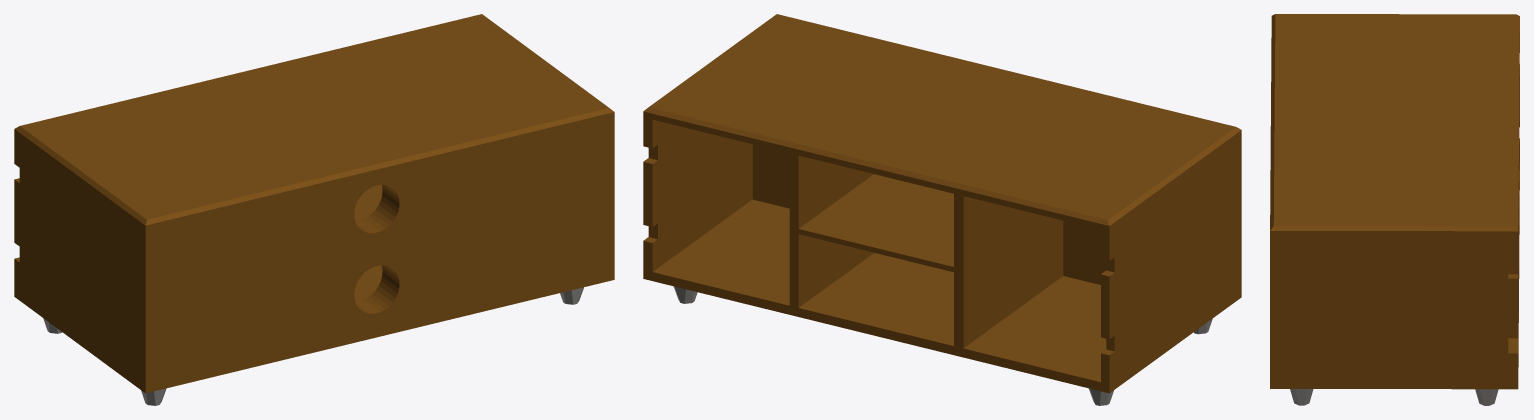
File: TV_Stand.fbx
3 renders of one model, left to right at view 1: azimuth 30°, elevation 25°; view 2: azimuth 150°, elevation 25°; view 3: azimuth 270°, elevation 25°, orthographic. The views are drawn at different scales.
Parts seen in each view (by area): view 1: Cube.053; view 2: Cube.053; view 3: Cube.053.
Part boxes in pixels (<box>): Cube.053: <box>14,14,614,405</box>; Cube.053: <box>643,14,1241,405</box>; Cube.053: <box>1270,14,1519,405</box>.
Size of the model in its own units: 251 by 102 by 123.
